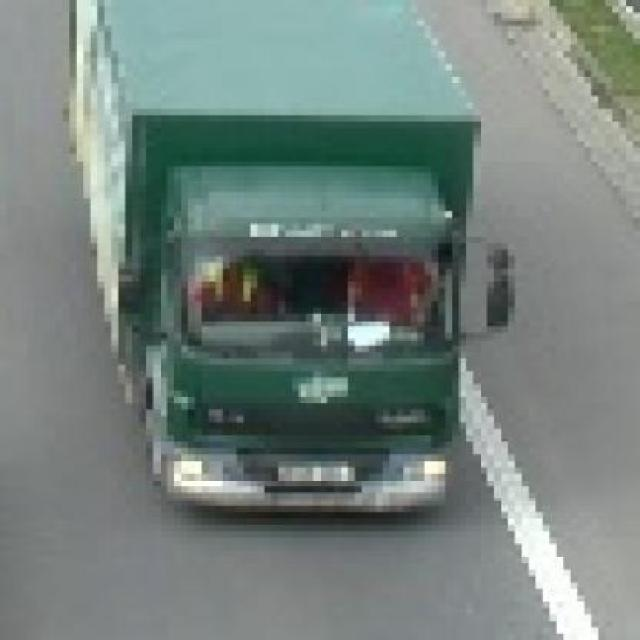truck: (57, 1, 517, 526)
